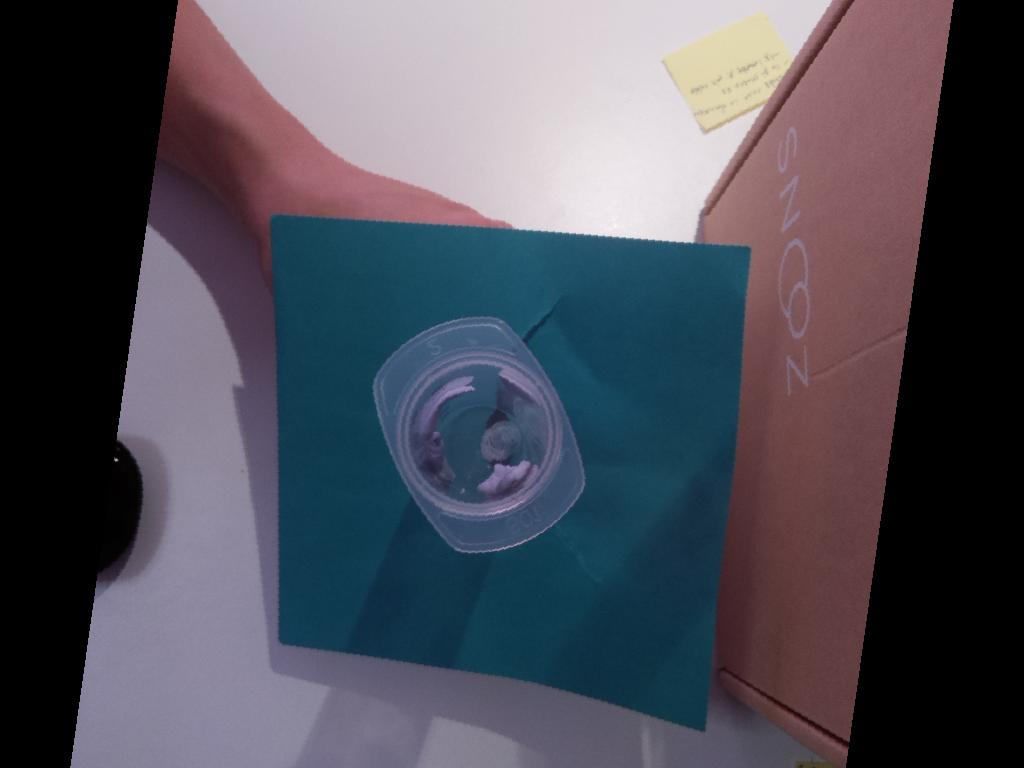dirty: (372, 315, 585, 552)
